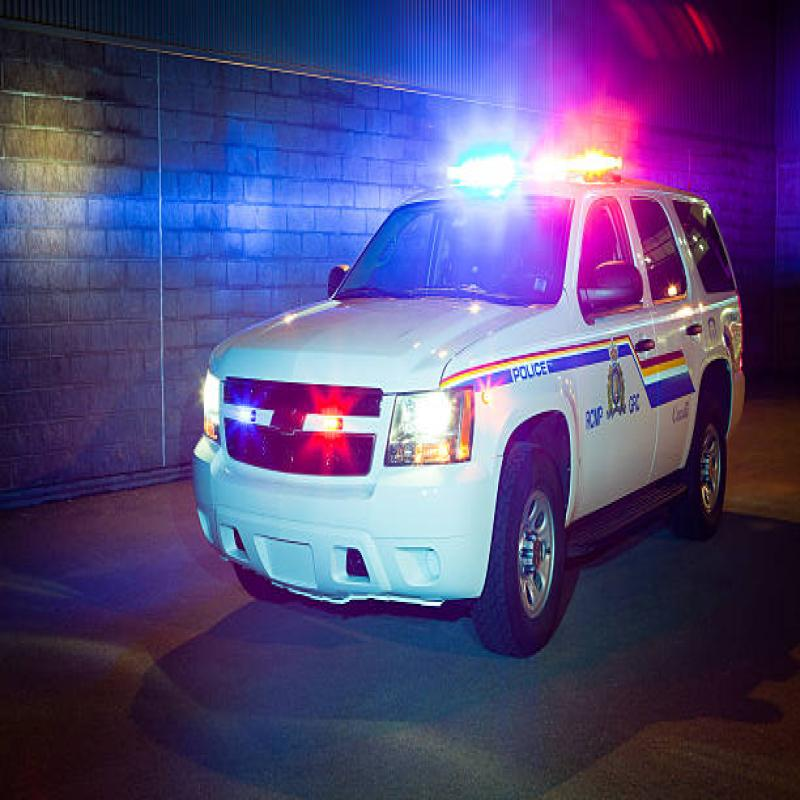AmbulanceSiren: (434, 136, 624, 207)
